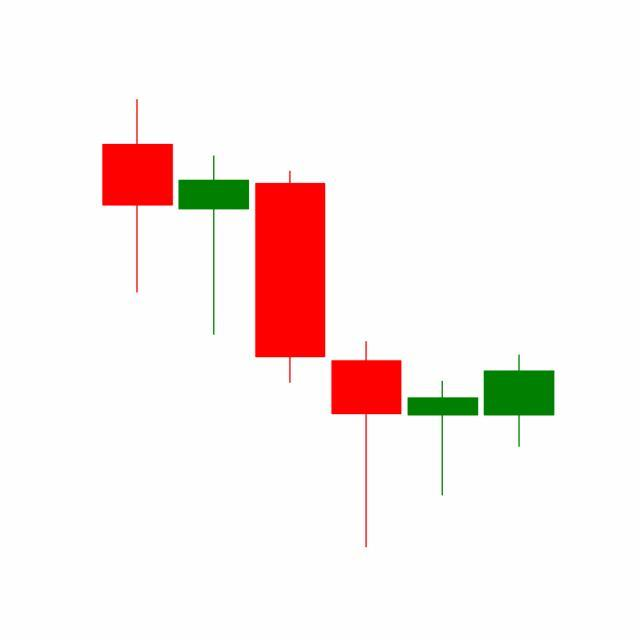Hikkake Pattern: (175, 151, 555, 548)
